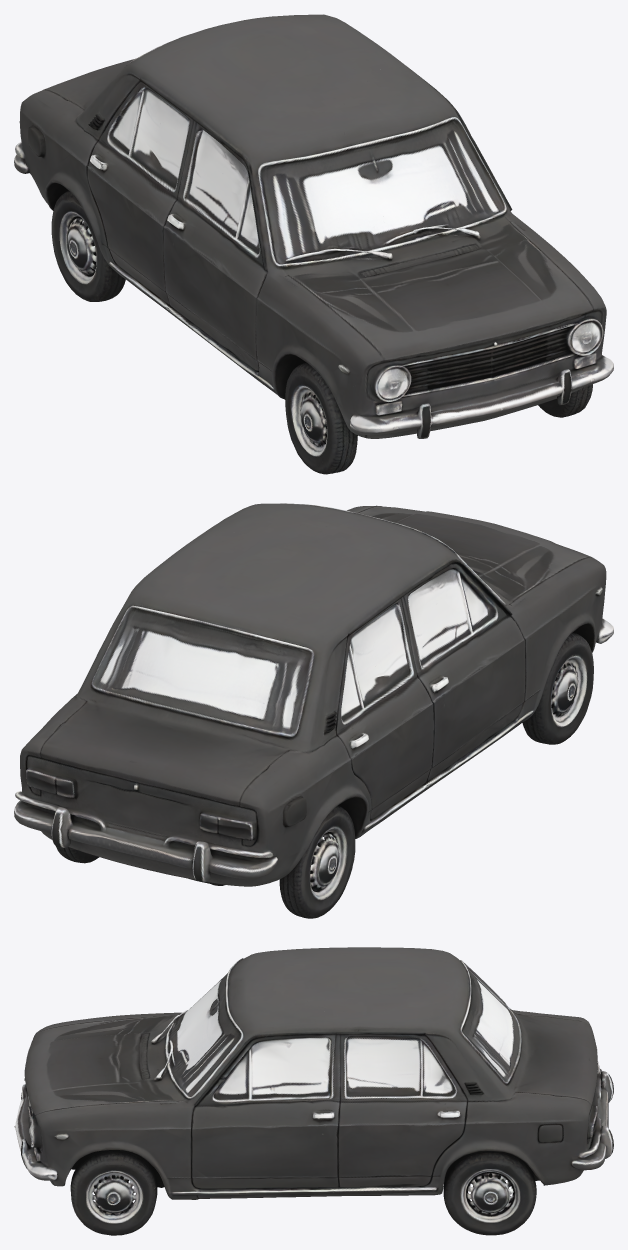
File: fiat_128_standard.glb
The picture shows the model from 3 angles, top to bottom: view 1: azimuth 30°, elevation 25°; view 2: azimuth 150°, elevation 25°; view 3: azimuth 270°, elevation 25°; orthographic projection. The views are drawn at different scales.
Parts seen in each view (by area): view 1: model; view 2: model; view 3: model.
Part boxes in pixels (x1=…): model: x1=14, y1=14, x2=613, y2=474; model: x1=14, y1=503, x2=613, y2=918; model: x1=14, y1=947, x2=613, y2=1235.
Size of the model in its own units: 1.61 by 1.45 by 3.77.
Materials: 1 (1 with a texture image).
